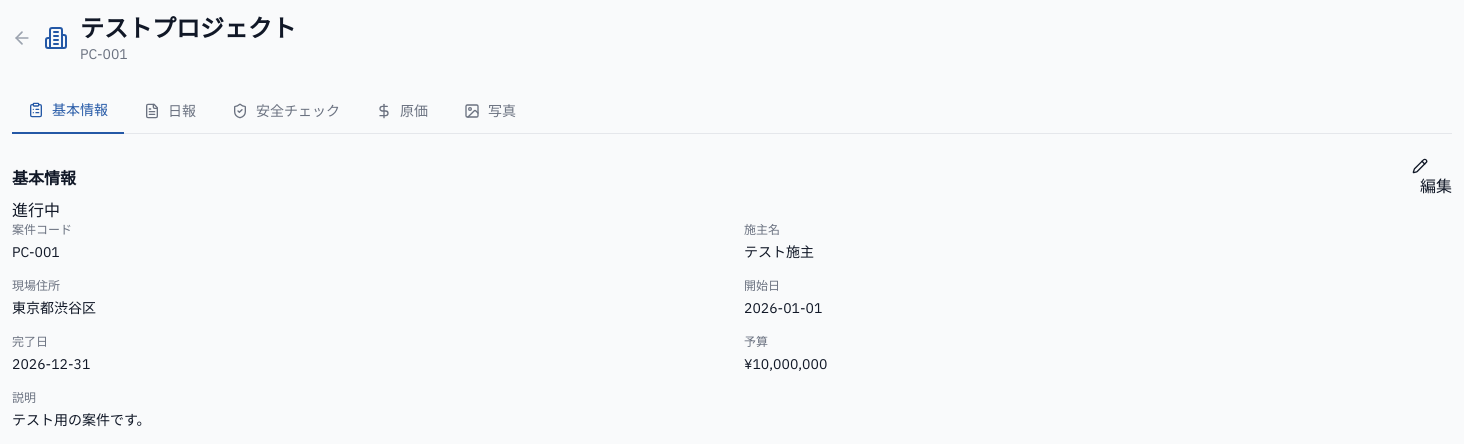
Test case: ProjectDetailPage › 原価タブに切り替えるとデータなし状態が表示される
Expected: the heading "テストプロジェクト" is shown, [80,12,296,44]
Step 1. Click the button "原価" → x=402, y=111, box [360,88,444,134]
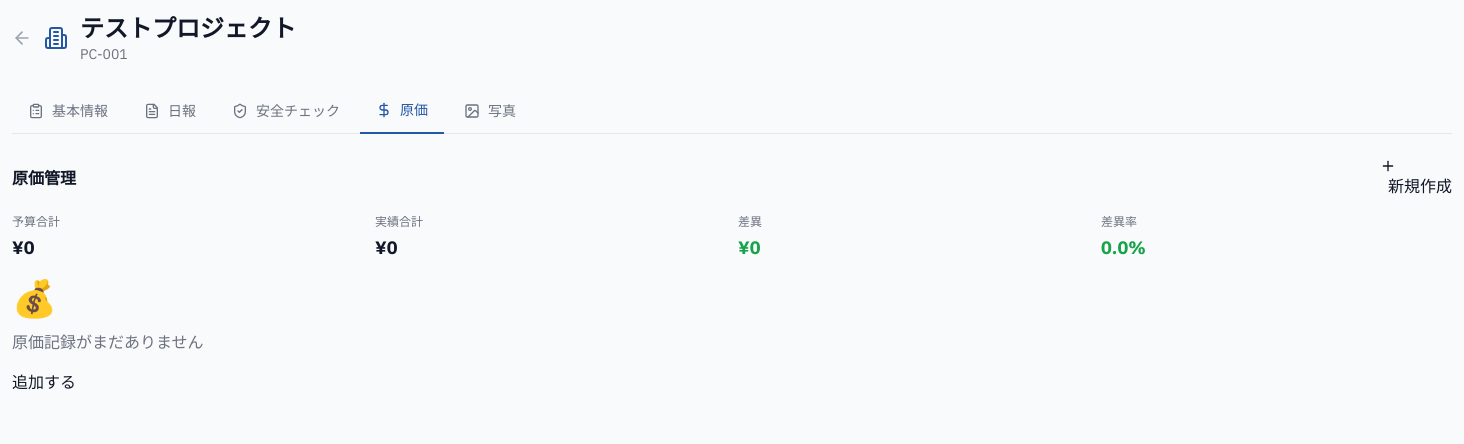
Expected: the text "原価記録がまだありません" is shown, [12,332,204,352]
